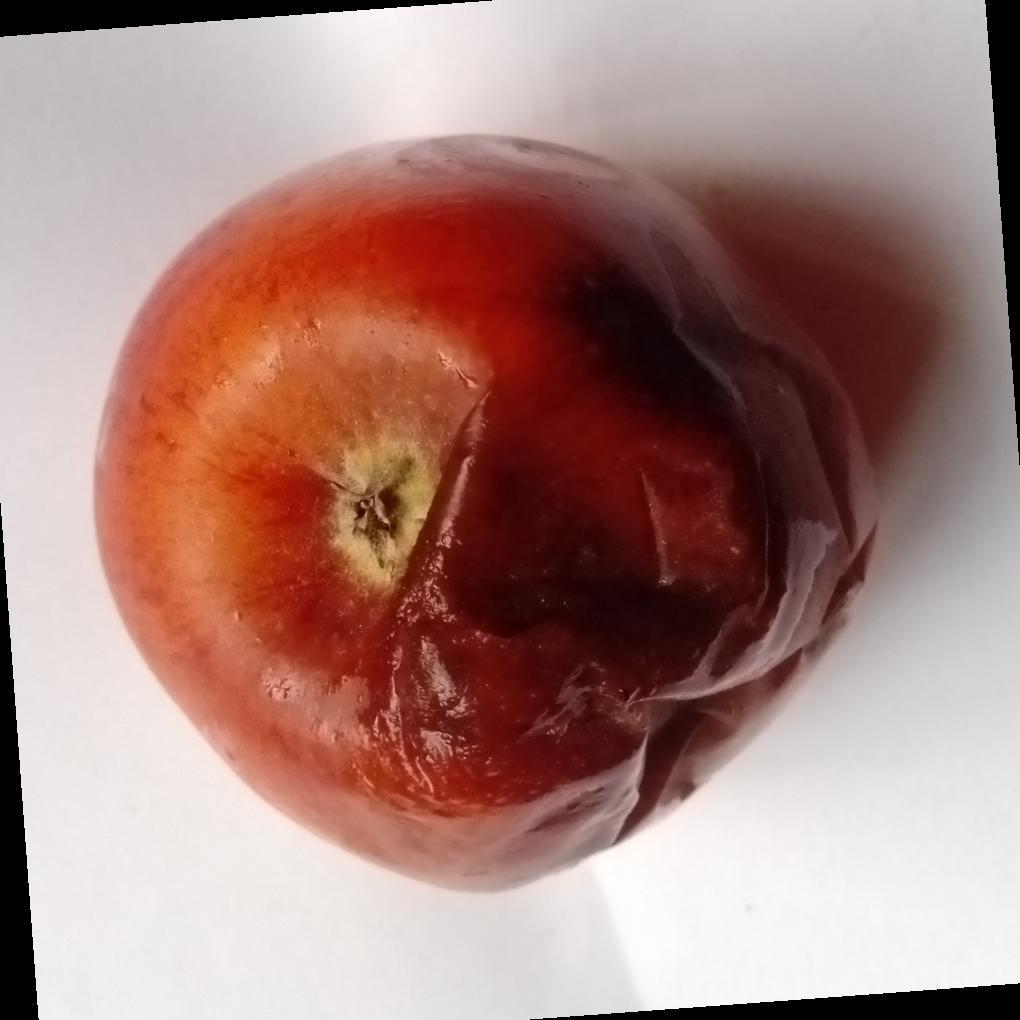FreshOrange: (90, 133, 881, 899)
